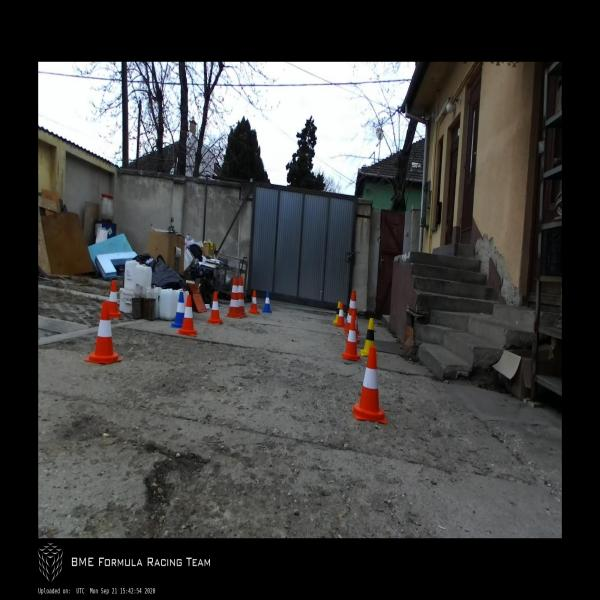blue_cone: (171, 291, 185, 328), (262, 291, 273, 313)
large_orange_cone: (225, 274, 243, 318), (344, 291, 360, 335), (238, 276, 247, 317)
orange_cone: (352, 346, 388, 424), (84, 301, 123, 364), (176, 295, 199, 336), (342, 317, 360, 361), (207, 291, 224, 325), (109, 280, 122, 318), (248, 290, 260, 314), (336, 302, 346, 327)
yellow_cone: (361, 318, 378, 357), (333, 301, 341, 324)
